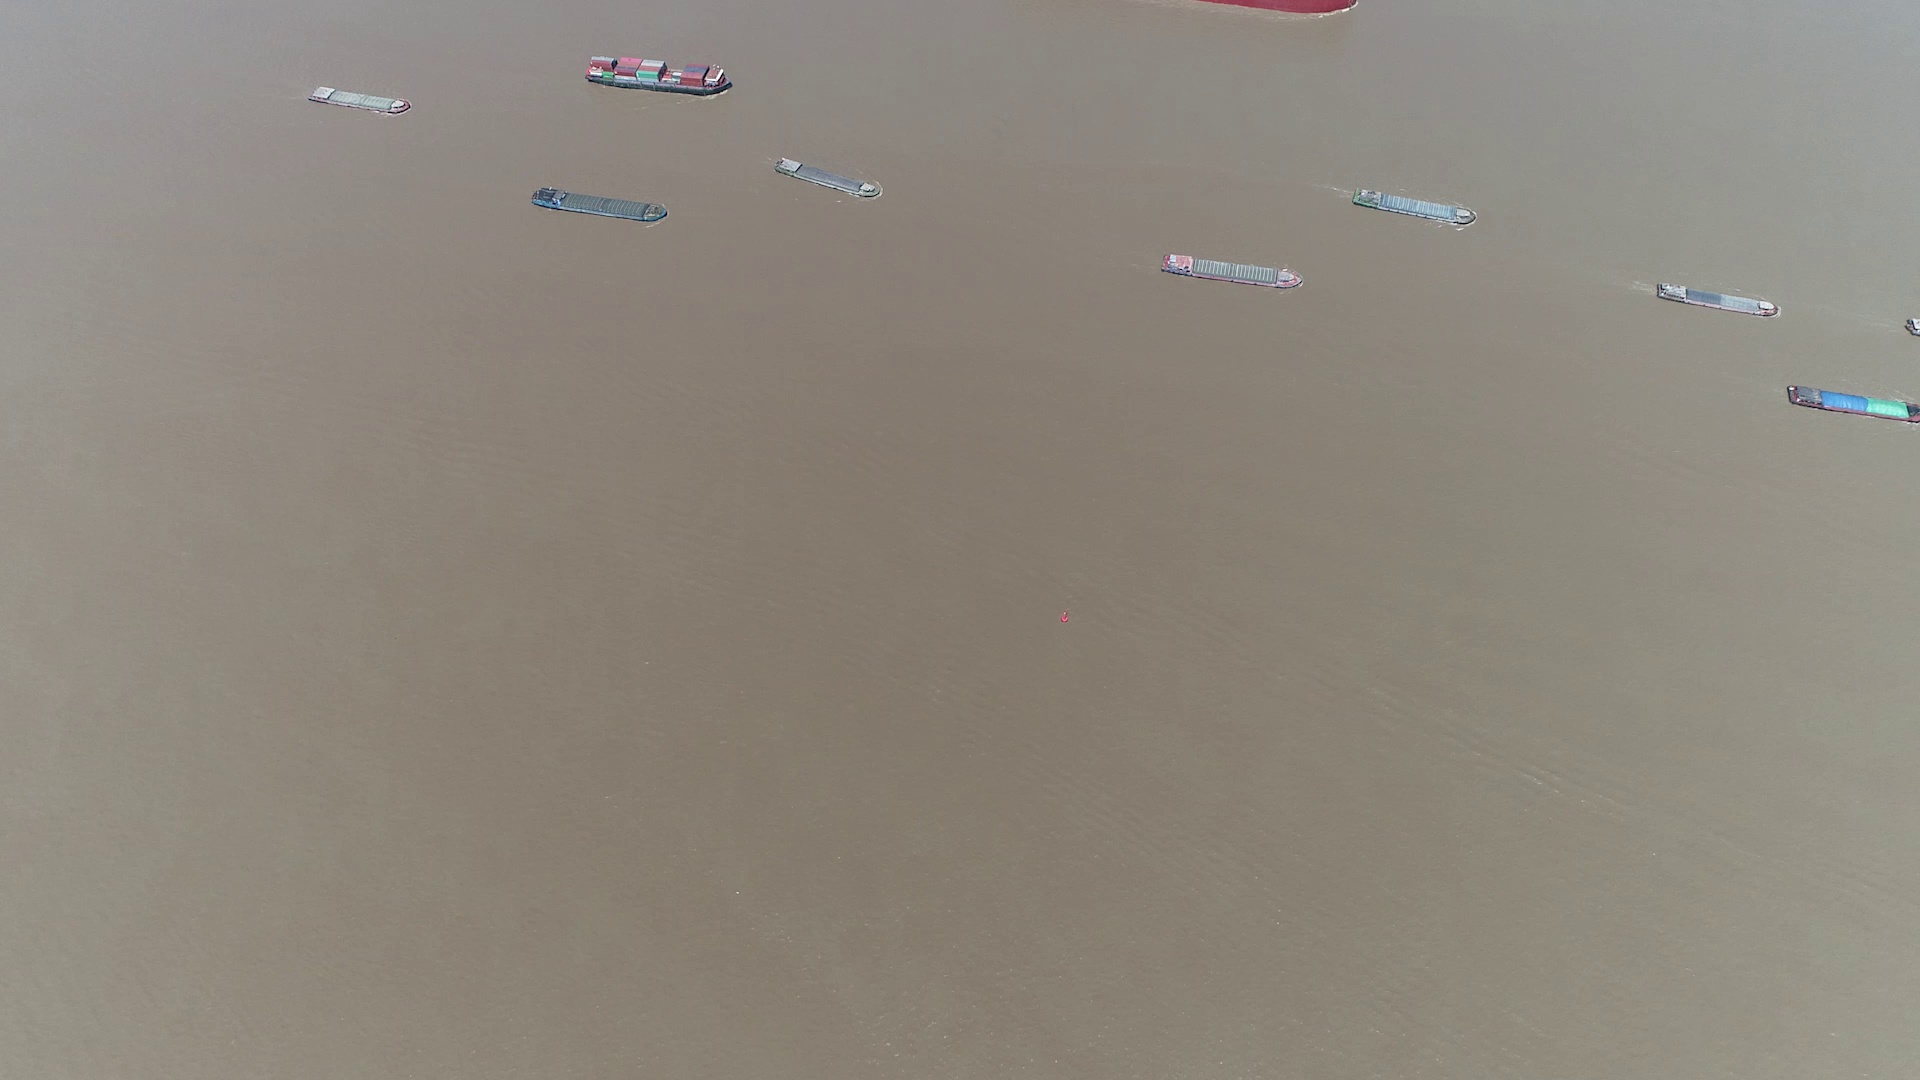ship: (585, 55, 733, 94), (1159, 253, 1300, 291), (531, 186, 667, 225), (1788, 382, 1920, 422), (1354, 187, 1476, 227), (771, 158, 880, 202), (1655, 282, 1776, 316), (309, 84, 411, 113)
